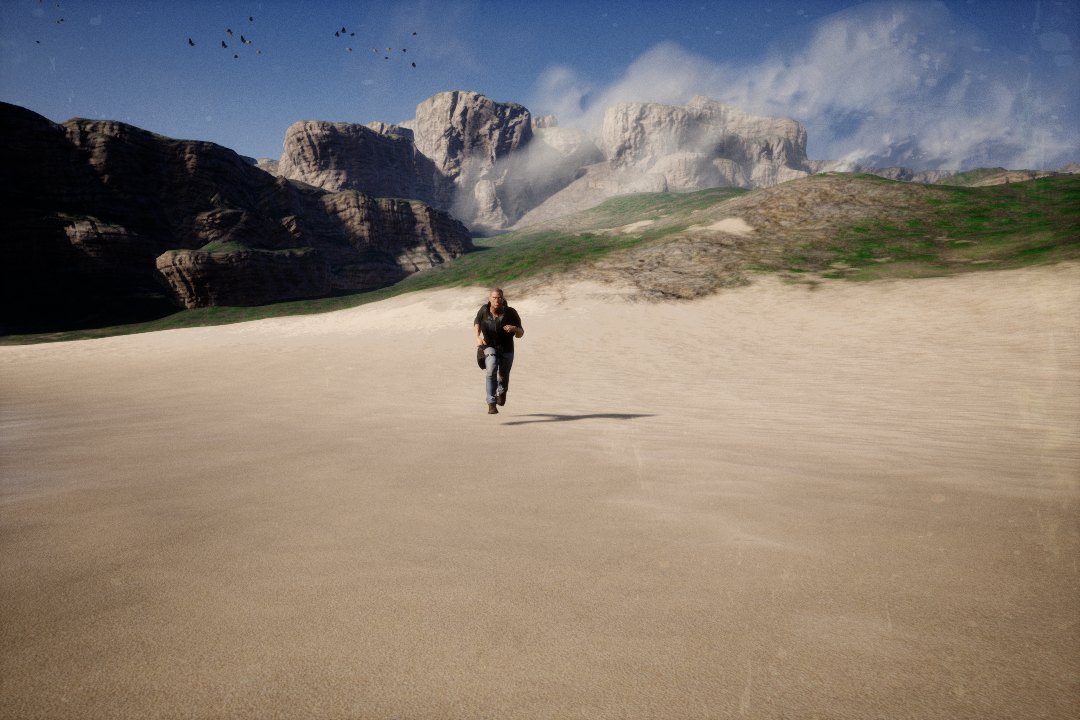person: (471, 288, 524, 418)
